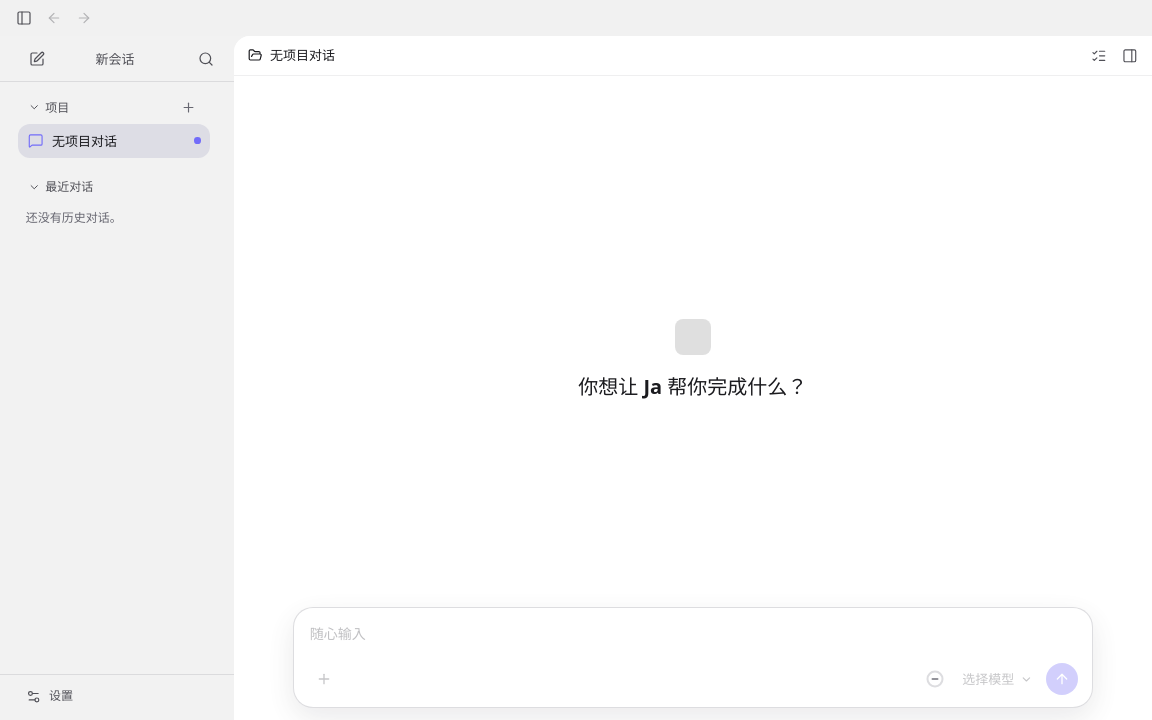
Test: Ja desktop shell v1 › creates and activates a session before enabling the first Composer
Expected: the text box named "消息" is disabled, [308,621,1078,653]
Click the button "新会话": (103, 59) [18,43,187,75]
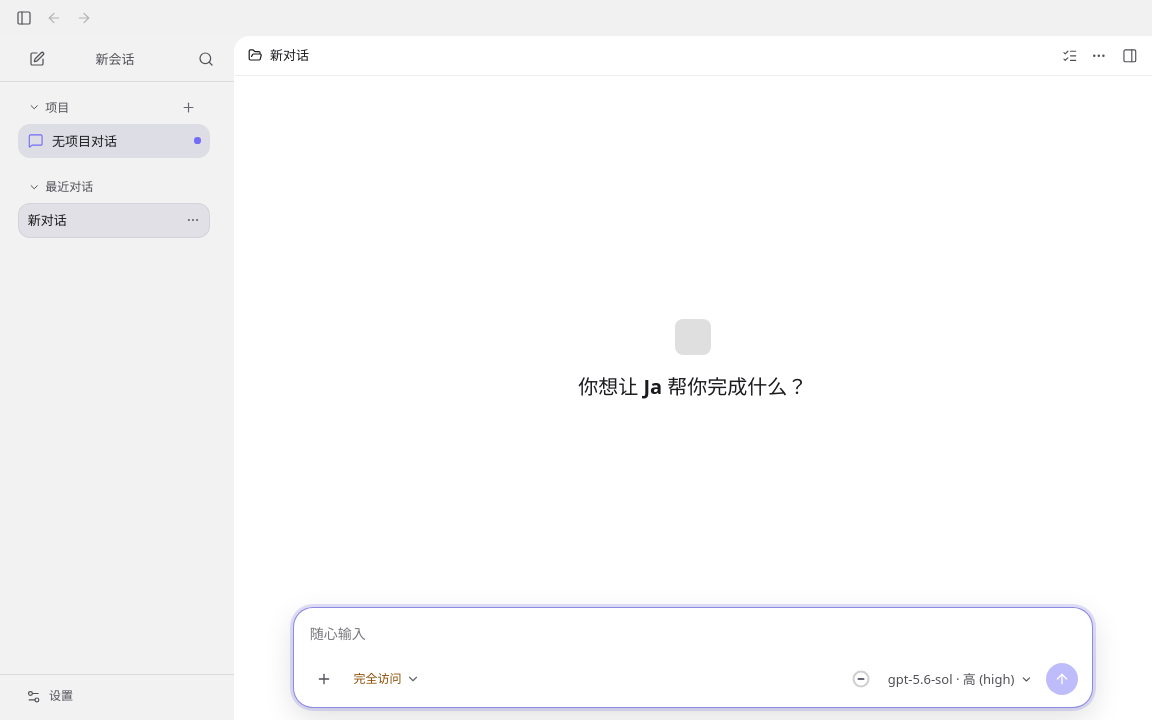
Now the text box named "消息" is enabled, box [308,621,1078,653]
